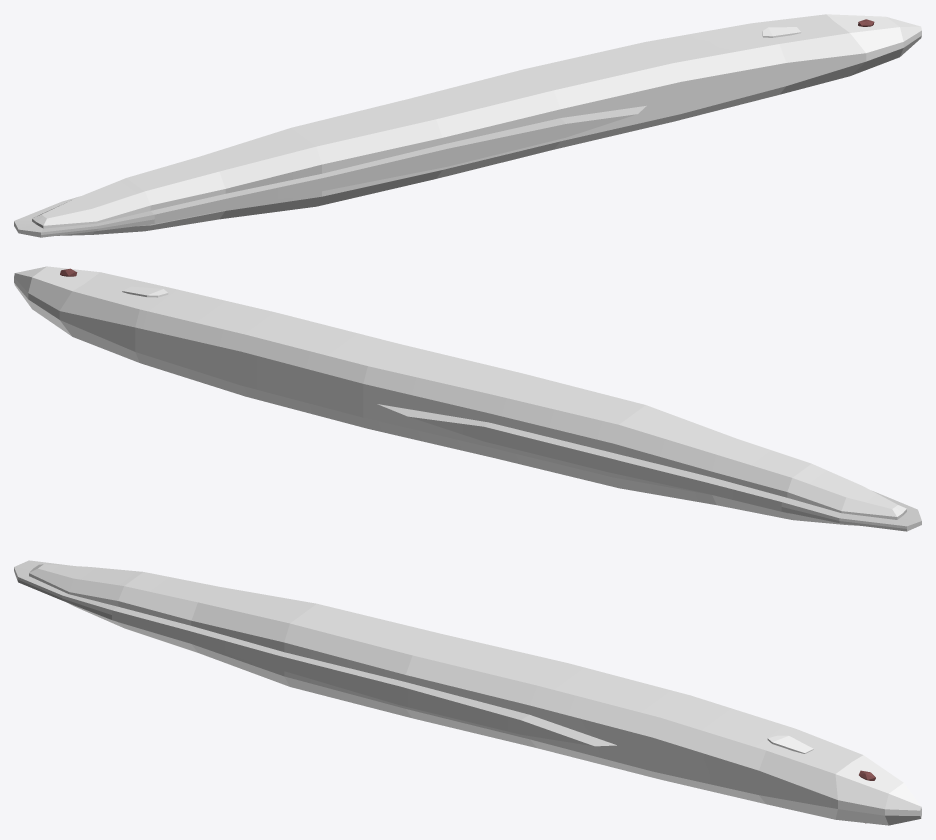
File: EelDrip.glb
3 renders of one model, top to bottom at view 1: azimuth 30°, elevation 25°; view 2: azimuth 150°, elevation 25°; view 3: azimuth 330°, elevation 25°, orthographic. The views are drawn at different scales.
Parts seen in each view (by area): view 1: EelDrip; view 2: EelDrip; view 3: EelDrip.
Part boxes in pixels (left/top/right/bottom): EelDrip: left=14, top=14, right=921, bottom=237; EelDrip: left=14, top=266, right=921, bottom=531; EelDrip: left=14, top=560, right=921, bottom=825.
Size of the model in its own units: 0.9917 by 0.0647 by 0.1036.
Materials: 1 (1 with a texture image).
